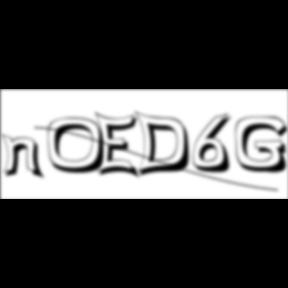6: (192, 112, 238, 176)
D: (134, 110, 198, 180)
E: (96, 110, 144, 182)
O: (48, 117, 112, 176)
n: (1, 132, 48, 181)
